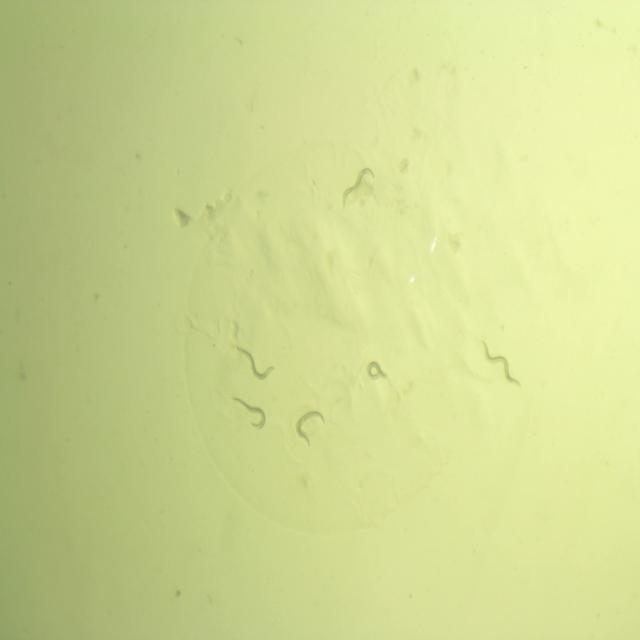worm: (476, 334, 524, 392), (336, 162, 378, 212), (232, 342, 279, 382), (227, 392, 269, 435), (292, 408, 328, 450), (362, 356, 390, 386)
